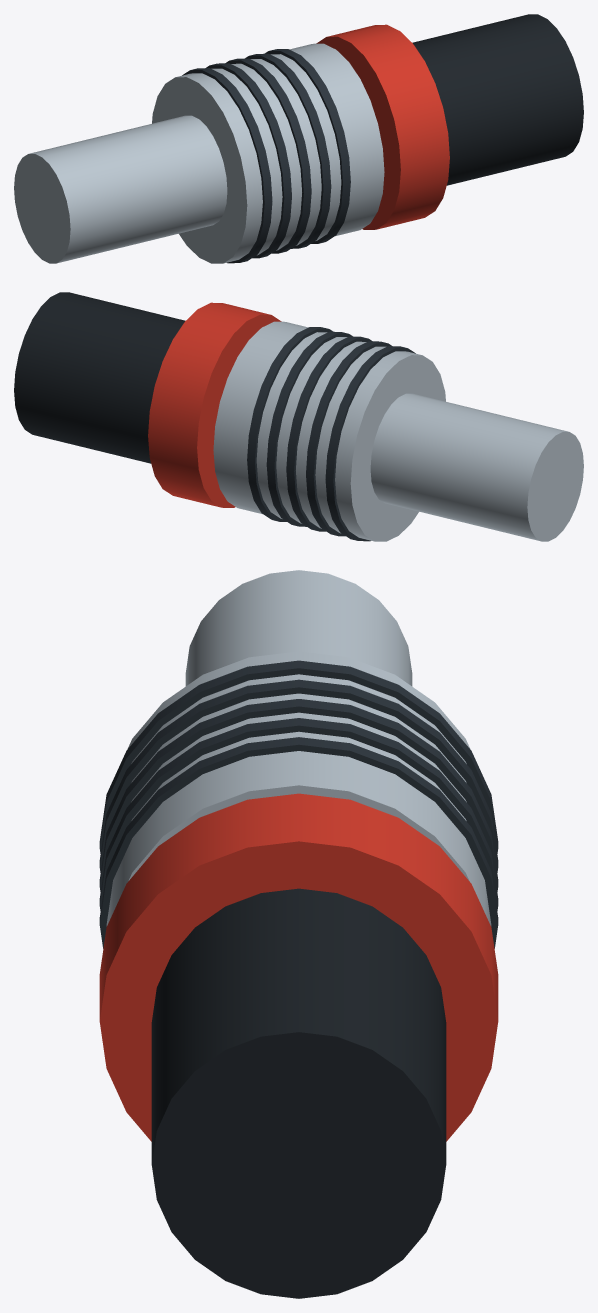
Rendered from SM_QD_Return.glb.
3 renders of one model, top to bottom at view 1: azimuth 30°, elevation 25°; view 2: azimuth 150°, elevation 25°; view 3: azimuth 270°, elevation 25°, orthographic. The views are drawn at different scales.
Visible parts, largest first — view 1: SM_QD_Return; view 2: SM_QD_Return; view 3: SM_QD_Return.
Part boxes in pixels (x1,y1,x2,y2): SM_QD_Return: (14,14,583,263); SM_QD_Return: (14,292,583,541); SM_QD_Return: (99,570,498,1298).
Bounding box in the file's own units: 0.0515 × 0.0176 × 0.0176.
